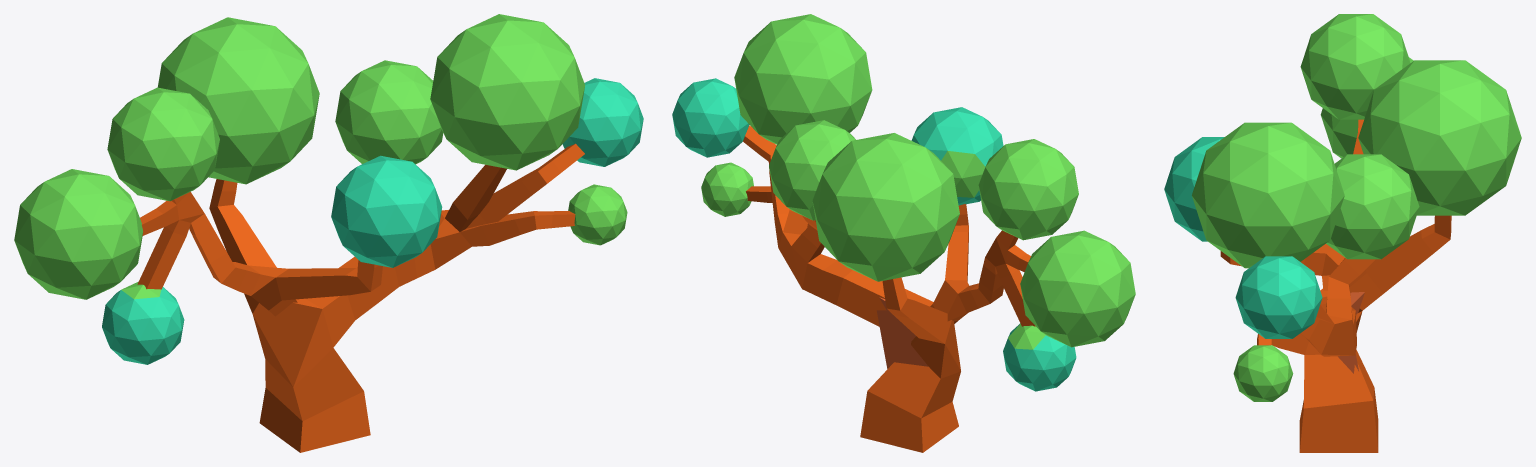
Rendered from Tree1 1.fbx.
3 views of the same model, side by side, from view 1: azimuth 30°, elevation 25°; view 2: azimuth 150°, elevation 25°; view 3: azimuth 270°, elevation 25° (orthographic). The views are drawn at different scales.
Visible parts, largest first — view 1: 아이코스피어, Cube; view 2: 아이코스피어, Cube; view 3: 아이코스피어, Cube.
Boxes of the visible parts, <box> form: 아이코스피어: <box>14,14,643,364</box>; Cube: <box>137,143,584,452</box>; 아이코스피어: <box>672,14,1135,391</box>; Cube: <box>743,125,1035,452</box>; 아이코스피어: <box>1164,14,1521,401</box>; Cube: <box>1220,119,1451,452</box>.
Size of the model in its own units: 147 by 100 by 84.53.
